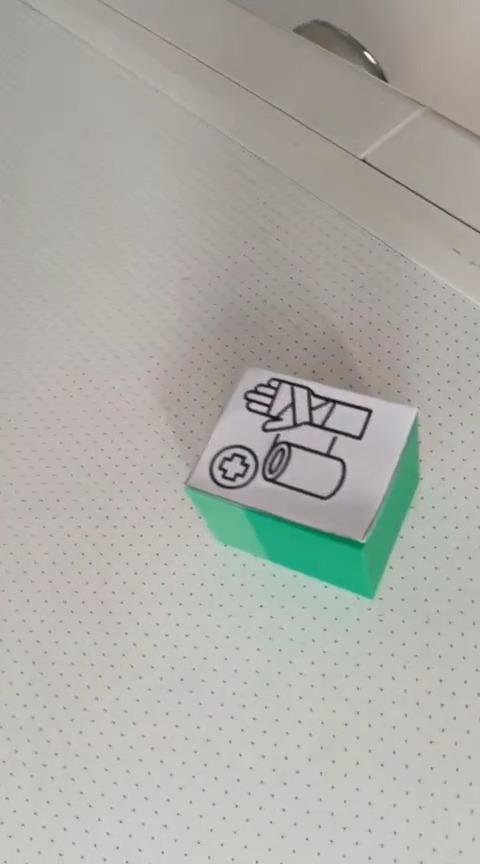Bandages: (185, 367, 421, 600)
